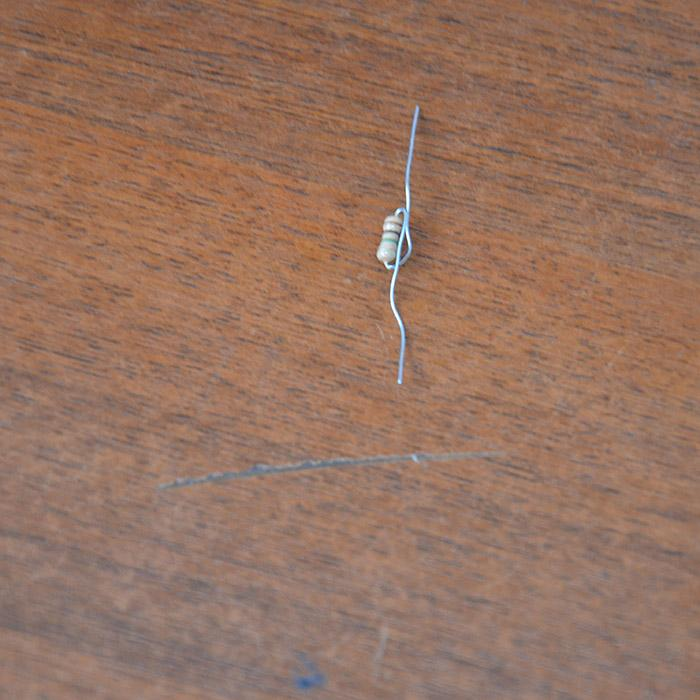resistor: (376, 213, 405, 265)
